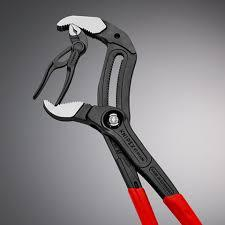pliers: (31, 23, 88, 106)
